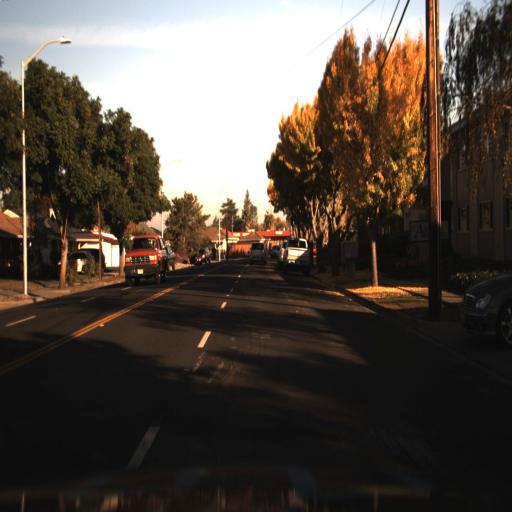car: (459, 262, 511, 349), (121, 230, 170, 290), (119, 228, 170, 285), (54, 247, 106, 277), (282, 235, 313, 278), (248, 238, 267, 266), (192, 245, 213, 269), (192, 244, 212, 267)
